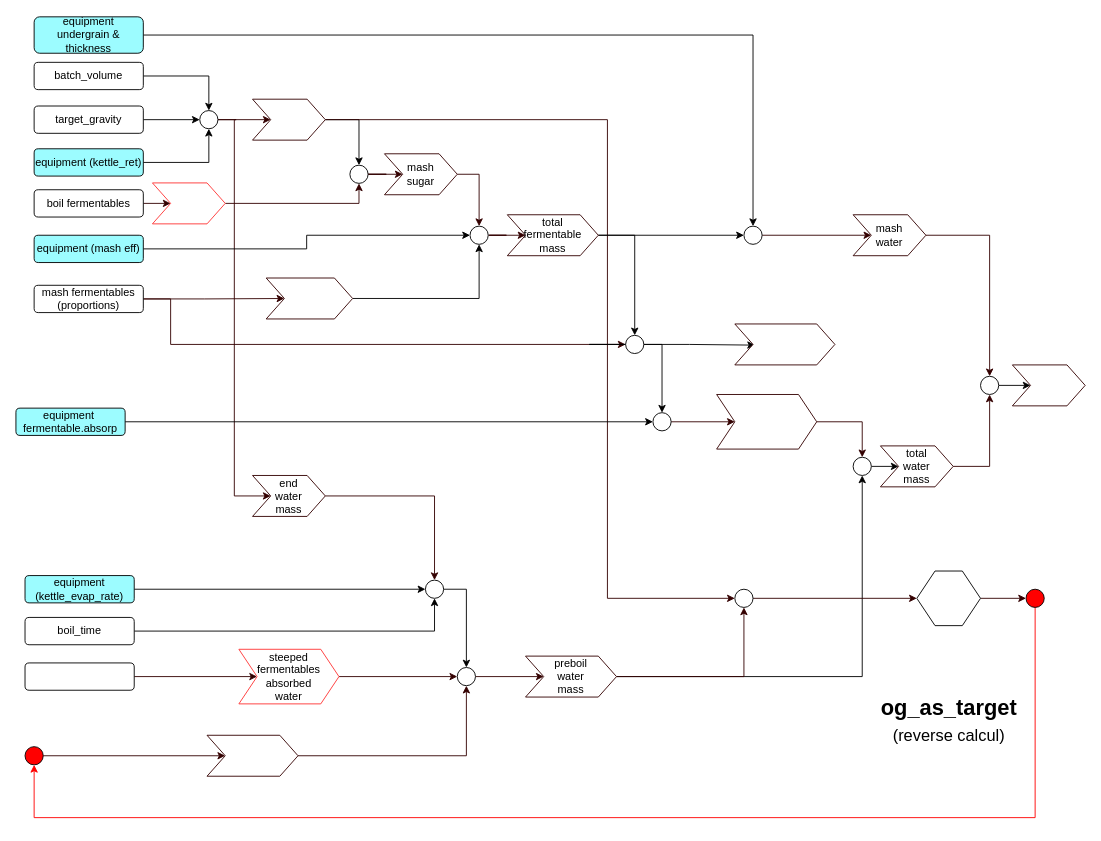
This 1101x841 diagram has some shape labels left out. Each missing label, with the box of its shape:
boil sugar: (152, 182, 225, 224)
end sugar: (252, 98, 325, 140)
fermentable true values: (734, 323, 835, 365)
hop absorbed water: (206, 734, 298, 776)
mash fermentable absorbed water: (716, 394, 817, 449)
preboil gravity: (916, 570, 981, 626)
sparge water: (1011, 364, 1085, 406)
stepped fermentable: (24, 662, 134, 690)
weighted average potential: (265, 277, 353, 319)
